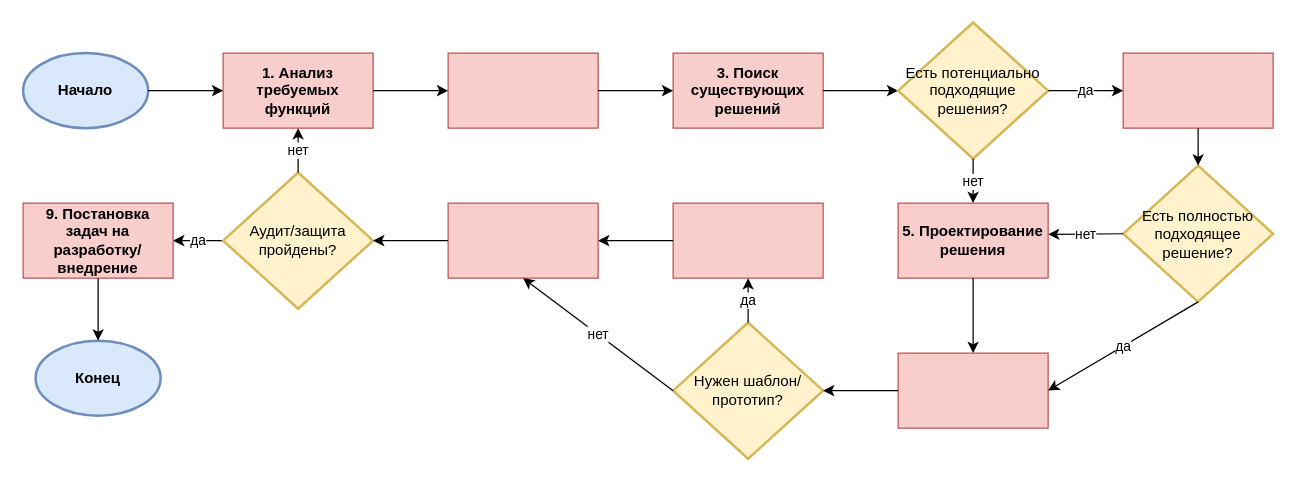
The diagram is 1295 pixels wide and 481 high, and some of its shapes have lost their labels. The box of each missing label's shape, as (x1, y1, x2, y2) in pixels:
2. Постановка и декомпозиция задачи: (447, 52, 598, 128)
4. Анализ существующих решений: (1122, 52, 1273, 128)
6. Документирование решения: (897, 352, 1048, 428)
7. Разработка шаблона/прототипа: (672, 202, 823, 278)
8. Аудит/защита решения: (447, 202, 598, 278)
